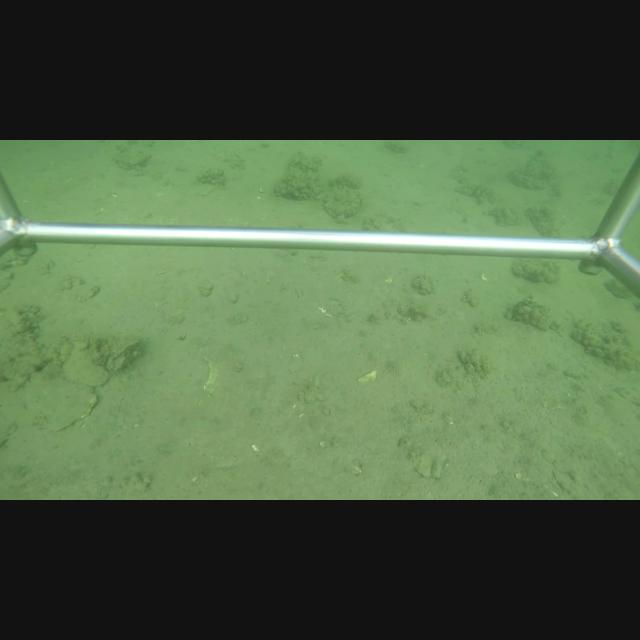Oyster-Closed: (18, 362, 98, 432), (66, 339, 112, 387), (111, 337, 140, 364)
